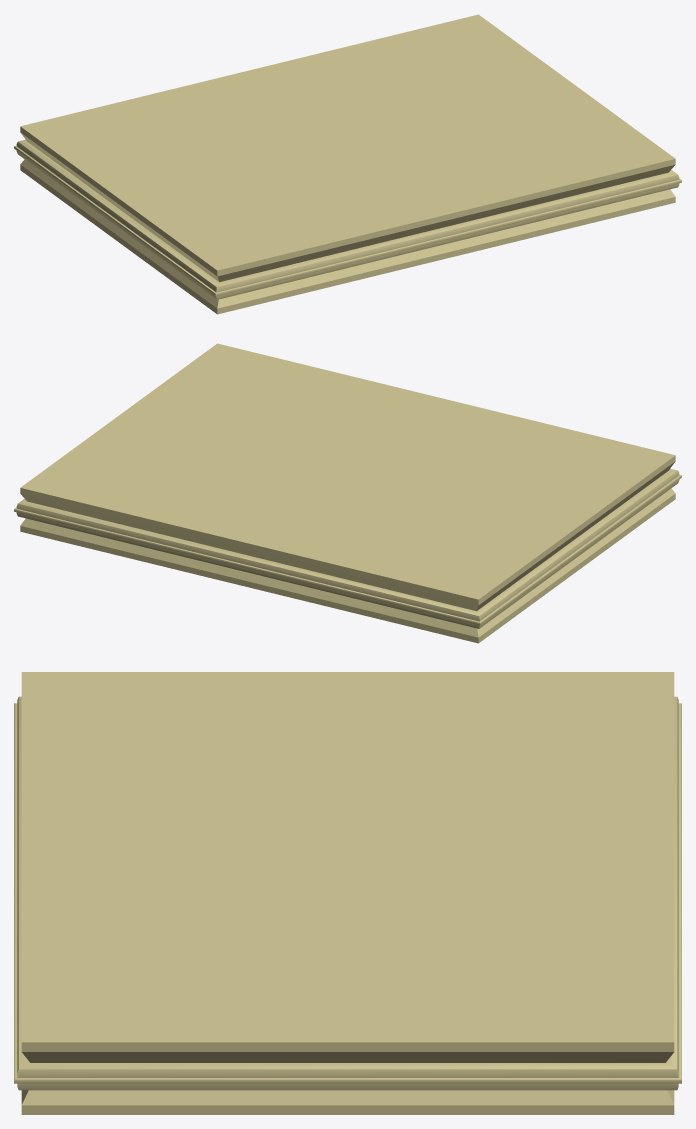
Rendered from OBJ_Arc_triomphe3.fbx.
The picture shows the model from 3 angles, top to bottom: view 1: azimuth 30°, elevation 25°; view 2: azimuth 150°, elevation 25°; view 3: azimuth 270°, elevation 25°; orthographic projection. The views are drawn at different scales.
Visible parts, largest first — view 1: Imposte001; view 2: Imposte001; view 3: Imposte001.
Part boxes in pixels (box(x1,y1,x2,y2)): Imposte001: box(14, 14, 681, 314); Imposte001: box(14, 343, 681, 643); Imposte001: box(14, 672, 681, 1114).
Size of the model in its own units: 2270 by 204 by 1702.
